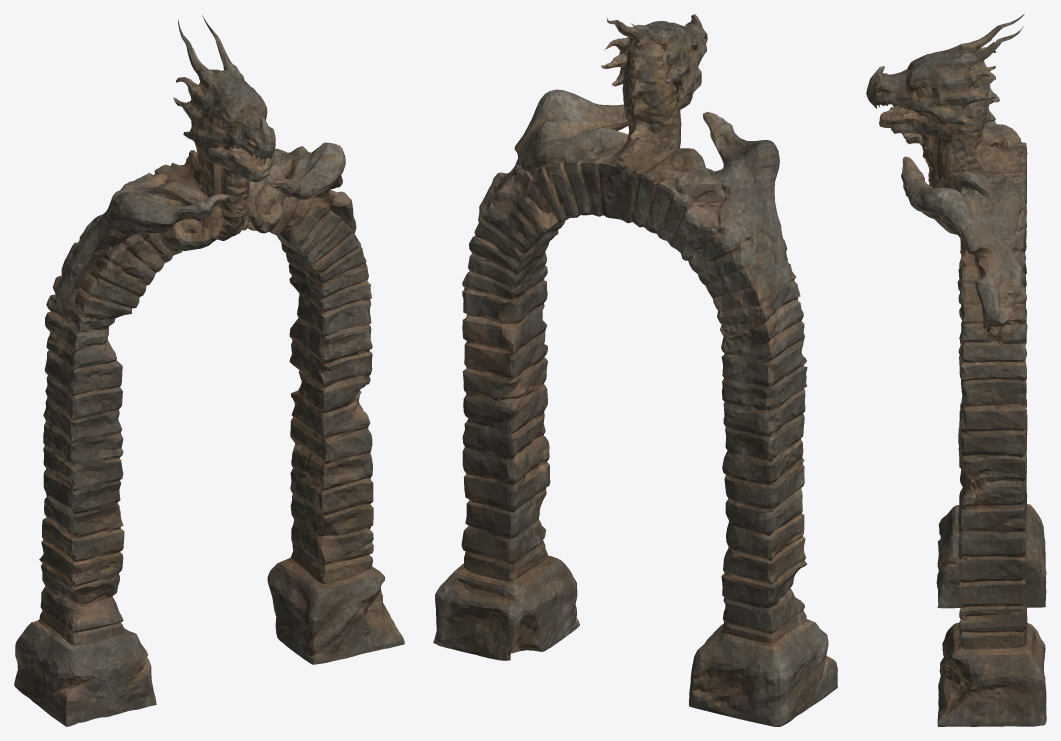
File: Portal_A22.fbx
The picture shows the model from 3 angles, left to right: view 1: azimuth 30°, elevation 25°; view 2: azimuth 150°, elevation 25°; view 3: azimuth 270°, elevation 25°; orthographic projection. The views are drawn at different scales.
Parts seen in each view (by area): view 1: portal_textured; view 2: portal_textured; view 3: portal_textured.
Part boxes in pixels (x1,y1,x2,y2): portal_textured: (14, 15, 404, 726); portal_textured: (433, 14, 837, 726); portal_textured: (866, 14, 1046, 726).
Size of the model in its own units: 358 by 643 by 168.
